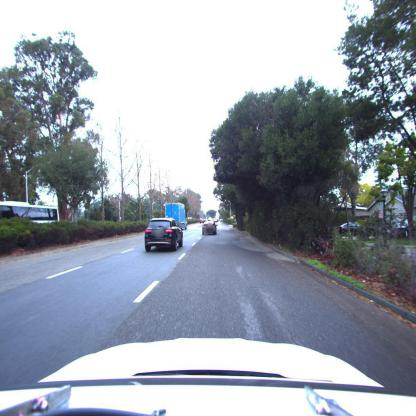bus: (0, 199, 59, 222)
car: (144, 219, 184, 253), (339, 223, 361, 234), (201, 220, 217, 235)
truck: (164, 202, 188, 230)
